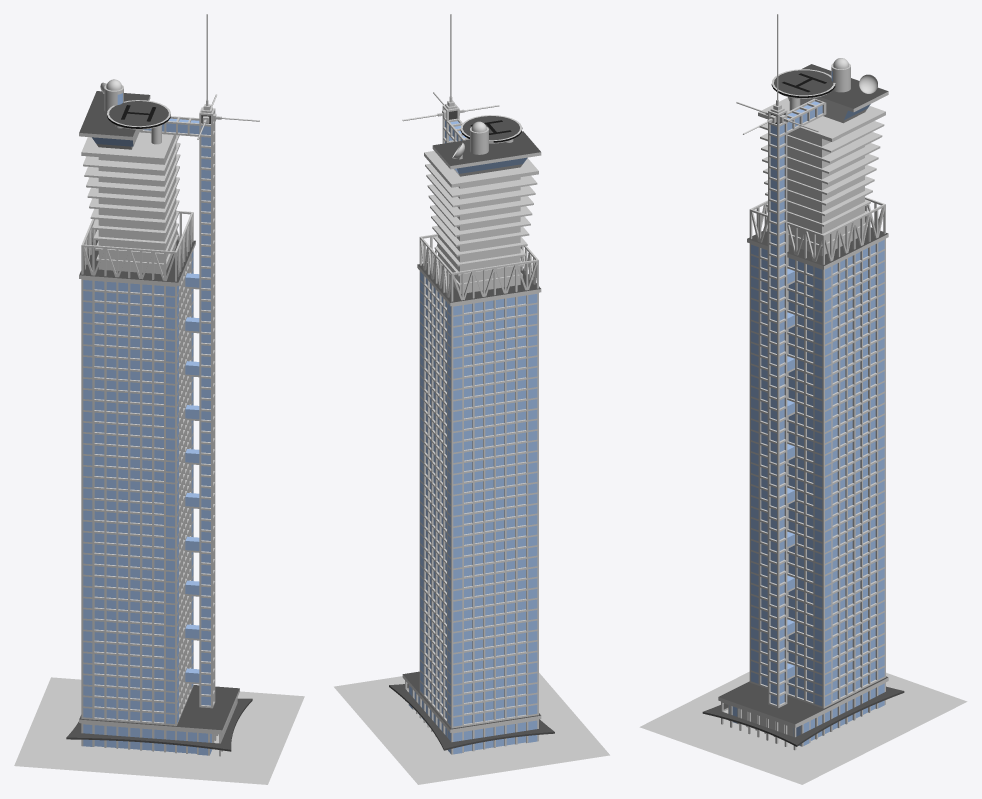
The model's file is Skyscraper11.fbx.
The picture shows the model from 3 angles, left to right: view 1: azimuth 30°, elevation 25°; view 2: azimuth 150°, elevation 25°; view 3: azimuth 270°, elevation 25°; orthographic projection. The views are drawn at different scales.
Parts seen in each view (by area): view 1: Mesh2058 Model; view 2: Mesh2058 Model; view 3: Mesh2058 Model.
Part boxes in pixels (x1=…): Mesh2058 Model: x1=14, y1=14, x2=304, y2=784; Mesh2058 Model: x1=334, y1=14, x2=609, y2=784; Mesh2058 Model: x1=639, y1=14, x2=967, y2=784.
Bounding box in the file's own units: 760 × 1799 × 747.
